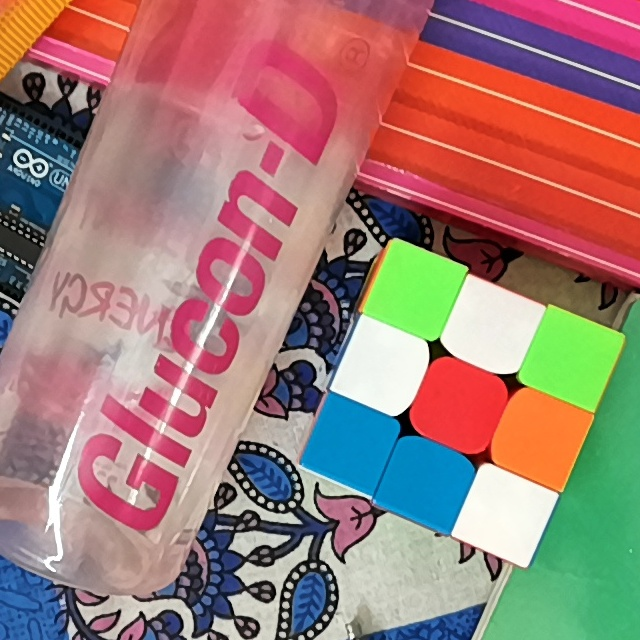tile: (511, 405, 570, 470), (428, 375, 490, 436), (541, 329, 603, 387), (384, 261, 446, 318), (459, 298, 518, 356), (398, 454, 457, 511), (473, 487, 534, 542), (355, 341, 411, 398), (321, 417, 379, 472)
